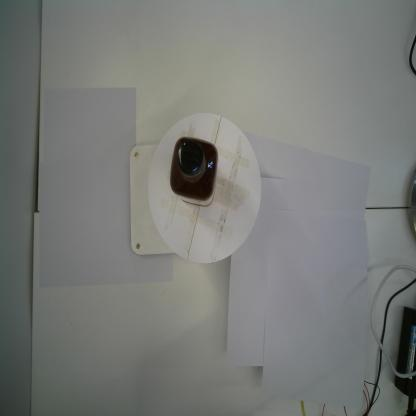Seasoner: (170, 137, 219, 207)
